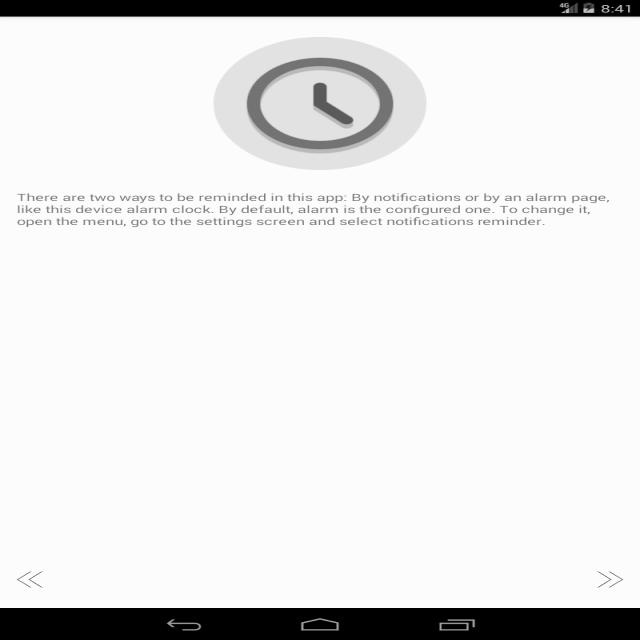ImageButton: (582, 559, 635, 595)
ImageView: (196, 34, 442, 175)
TextView: (8, 189, 620, 234)
